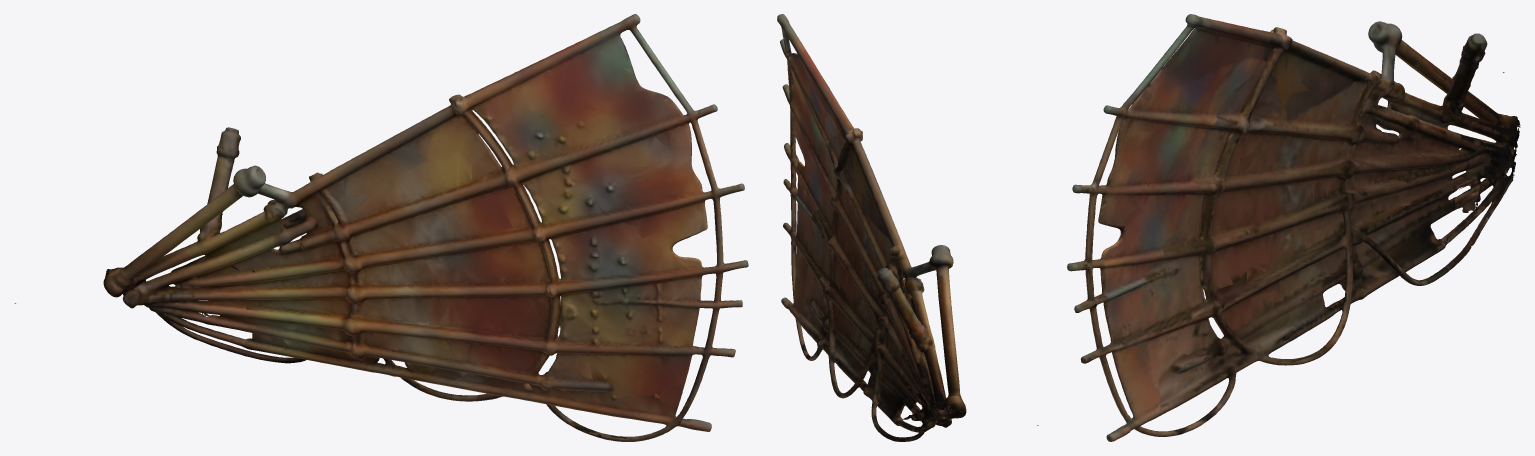
Rendered from ala0.obj.
The picture shows the model from 3 angles, left to right: view 1: azimuth 30°, elevation 25°; view 2: azimuth 150°, elevation 25°; view 3: azimuth 270°, elevation 25°; orthographic projection. The views are drawn at different scales.
Parts seen in each view (by area): view 1: nave.001_Material.001; view 2: nave.001_Material.001; view 3: nave.001_Material.001.
Part boxes in pixels (bbox=[...]): nave.001_Material.001: bbox=[14, 14, 748, 441]; nave.001_Material.001: bbox=[777, 14, 1038, 441]; nave.001_Material.001: bbox=[1067, 14, 1520, 441].
Bounding box in the file's own units: 0.9607 × 0.7304 × 0.6967.
